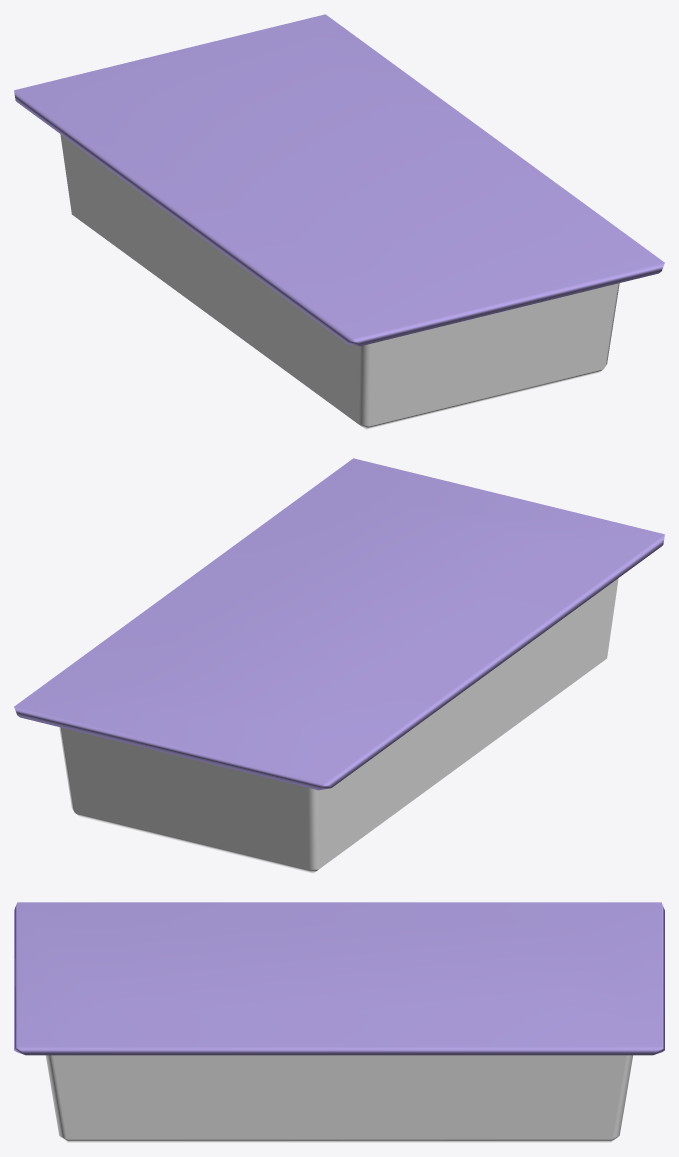
File: danmuji_1 1.fbx
3 views of the same model, one above another, from view 1: azimuth 30°, elevation 25°; view 2: azimuth 150°, elevation 25°; view 3: azimuth 270°, elevation 25° (orthographic). The views are drawn at different scales.
Parts seen in each view (by area): view 1: danmuji_unopened; view 2: danmuji_unopened; view 3: danmuji_unopened.
Boxes of the visible parts, bbox=[...] form: danmuji_unopened: bbox=[14, 14, 664, 429]; danmuji_unopened: bbox=[14, 458, 664, 873]; danmuji_unopened: bbox=[14, 902, 664, 1142].
Bounding box in the file's own units: 13.31 × 5.17 × 25.
